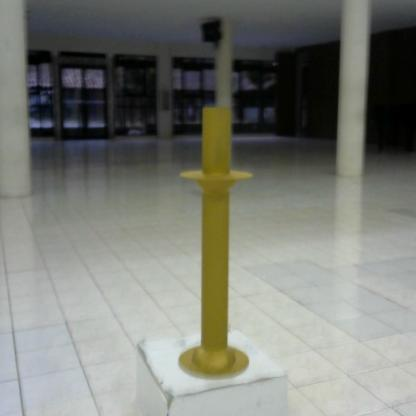pole: (176, 97, 259, 386)
